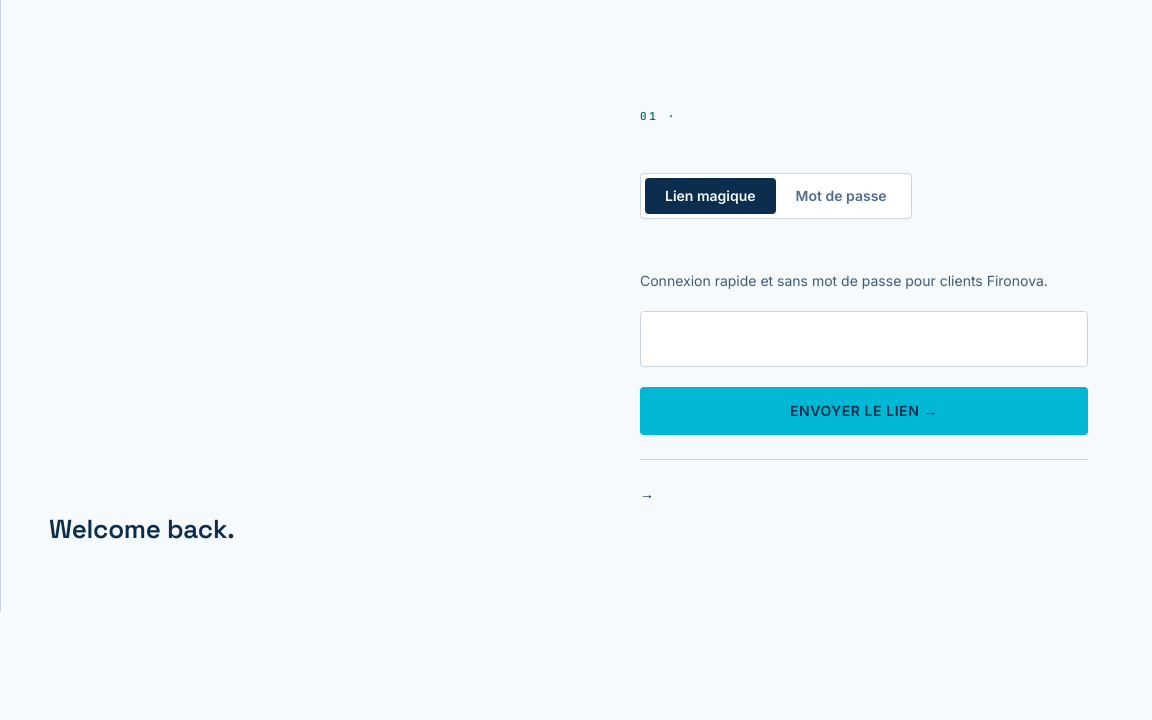
Test case: LE CAS DE MIREILLE : on propose de créer un compte
Type "mireillel041+lili@gmail.com" into the field with test id "login-magic-email".
click(864, 339); type("mireillel041+lili@gmail.com")  # box [640,311,1088,367]
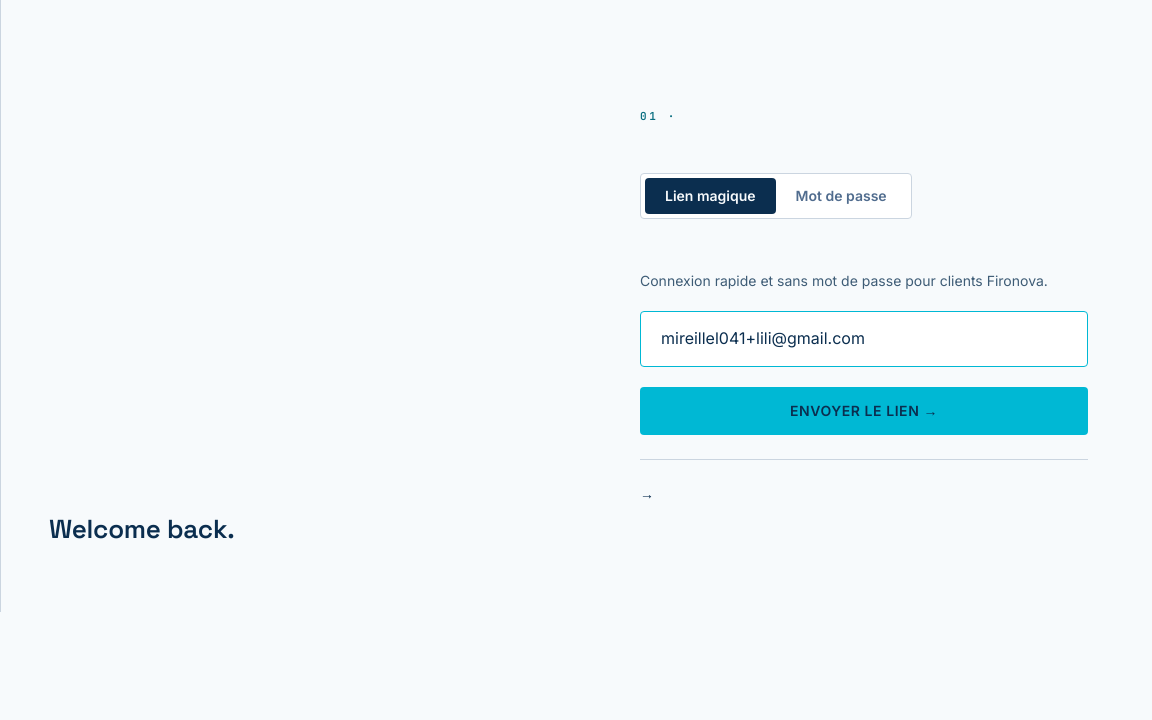
Click the button with test id "login-magic-submit".
click(864, 411)  # box [640,387,1088,435]
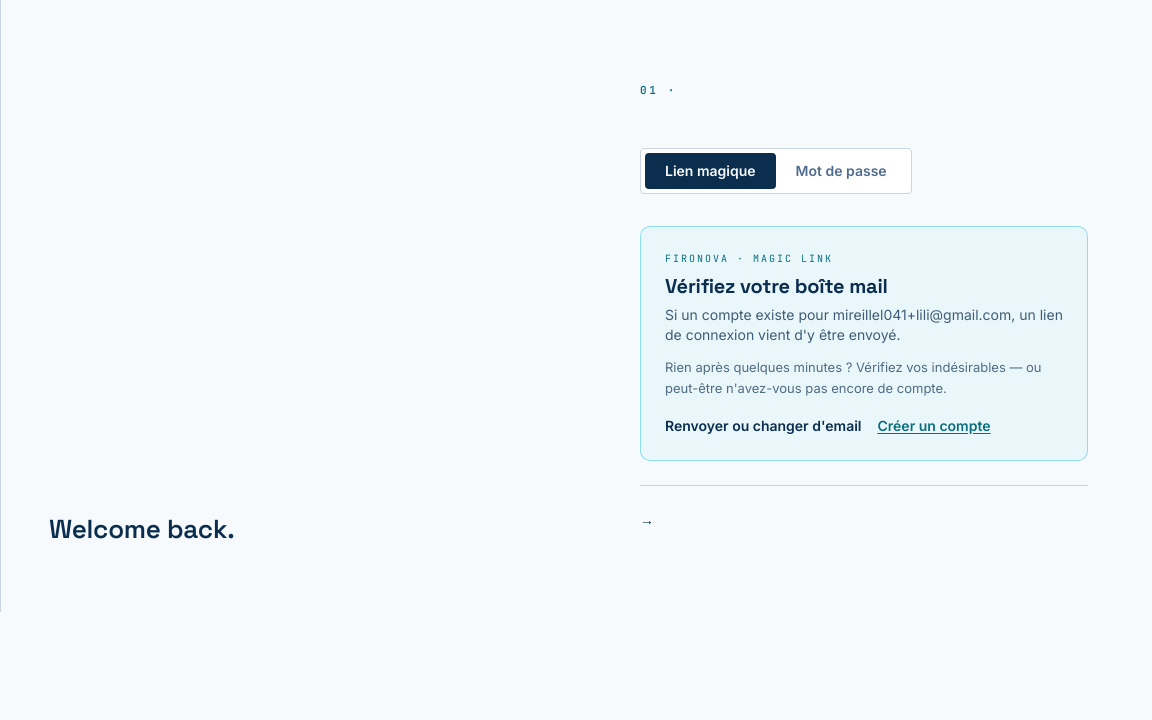
Expected: the element with test id "magic-sent" is shown, [640,226,1088,461]
Expected: the link with test id "magic-create-account" is shown, [878,416,990,436]
